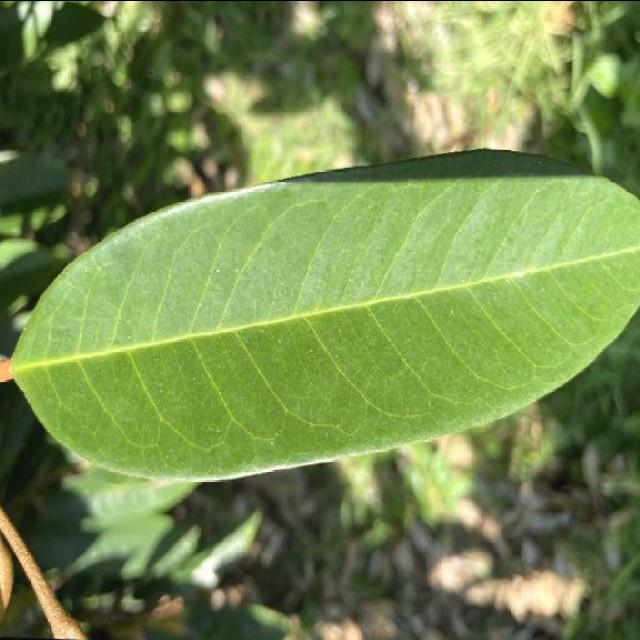No Disease: (0, 123, 640, 509)
